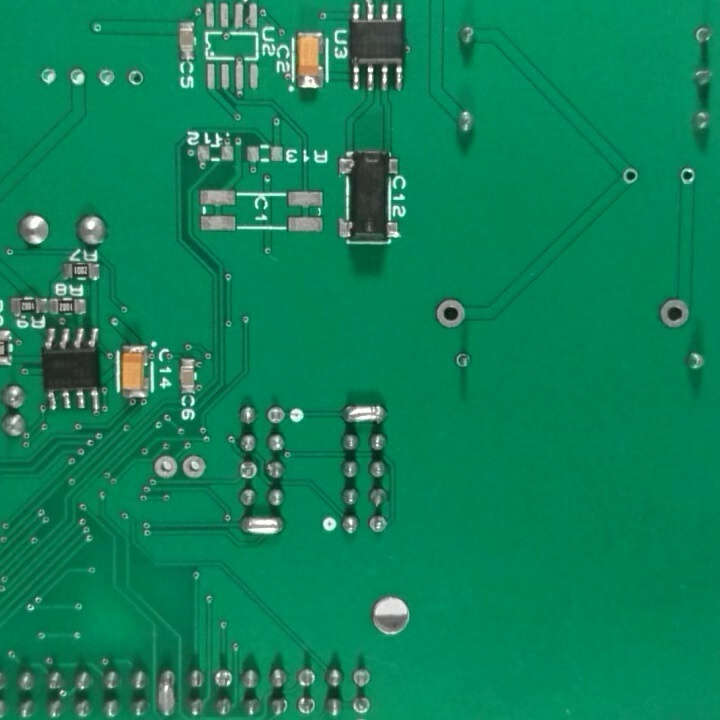F: (433, 295, 470, 335), (654, 297, 694, 329), (151, 455, 181, 484), (181, 455, 210, 484), (95, 66, 119, 92), (64, 67, 90, 90), (236, 460, 262, 483), (264, 406, 288, 430), (690, 23, 715, 46), (450, 349, 473, 372), (365, 514, 390, 535), (35, 64, 57, 87), (351, 695, 373, 718), (295, 695, 317, 717), (619, 168, 644, 187), (215, 669, 236, 691), (676, 167, 700, 186), (125, 69, 146, 90)
P: (235, 512, 288, 540), (337, 403, 392, 429), (156, 666, 178, 720)
